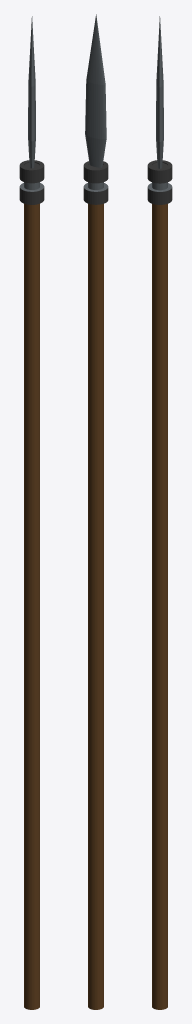
The model's file is Spear.fbx.
3 views of the same model, side by side, from view 1: azimuth 90°, elevation 25°; view 2: azimuth 150°, elevation 25°; view 3: azimuth 270°, elevation 25° (orthographic).
Visible parts, largest first — view 1: Cylinder; view 2: Cylinder; view 3: Cylinder.
Boxes of the visible parts, left/top/right/bottom form: Cylinder: left=19, top=16, right=44, bottom=1009; Cylinder: left=83, top=14, right=108, bottom=1009; Cylinder: left=147, top=16, right=172, bottom=1009.
Bounding box in the file's own units: 63.61 × 2822 × 63.43.
